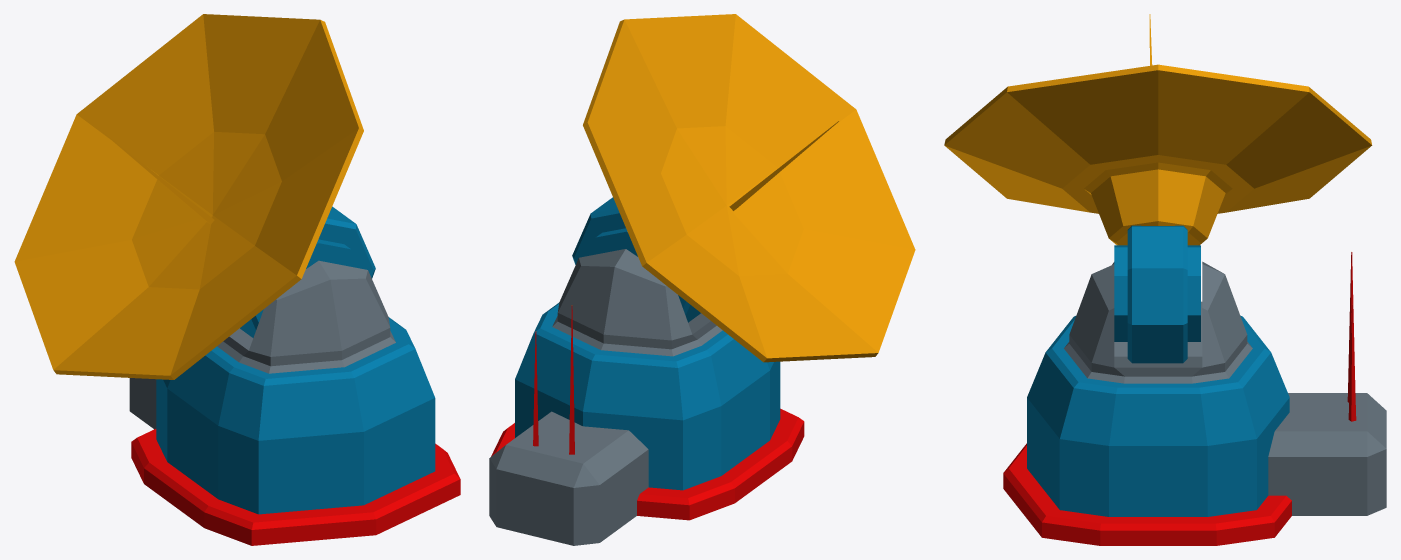
File: radar.fbx
3 views of the same model, side by side, from view 1: azimuth 30°, elevation 25°; view 2: azimuth 150°, elevation 25°; view 3: azimuth 270°, elevation 25° (orthographic). The views are drawn at different scales.
Parts seen in each view (by area): view 1: Radar; view 2: Radar; view 3: Radar.
Part boxes in pixels (box(x1,y1,x2,y2)): Radar: box(14, 14, 460, 545); Radar: box(489, 14, 915, 545); Radar: box(944, 14, 1386, 545).
Size of the model in its own units: 8.65 by 10.22 by 9.41.
